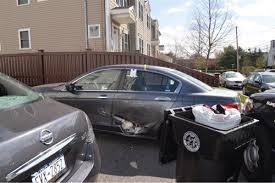Dent: (111, 112, 153, 137)
